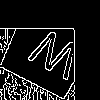W: (22, 26, 84, 89)
